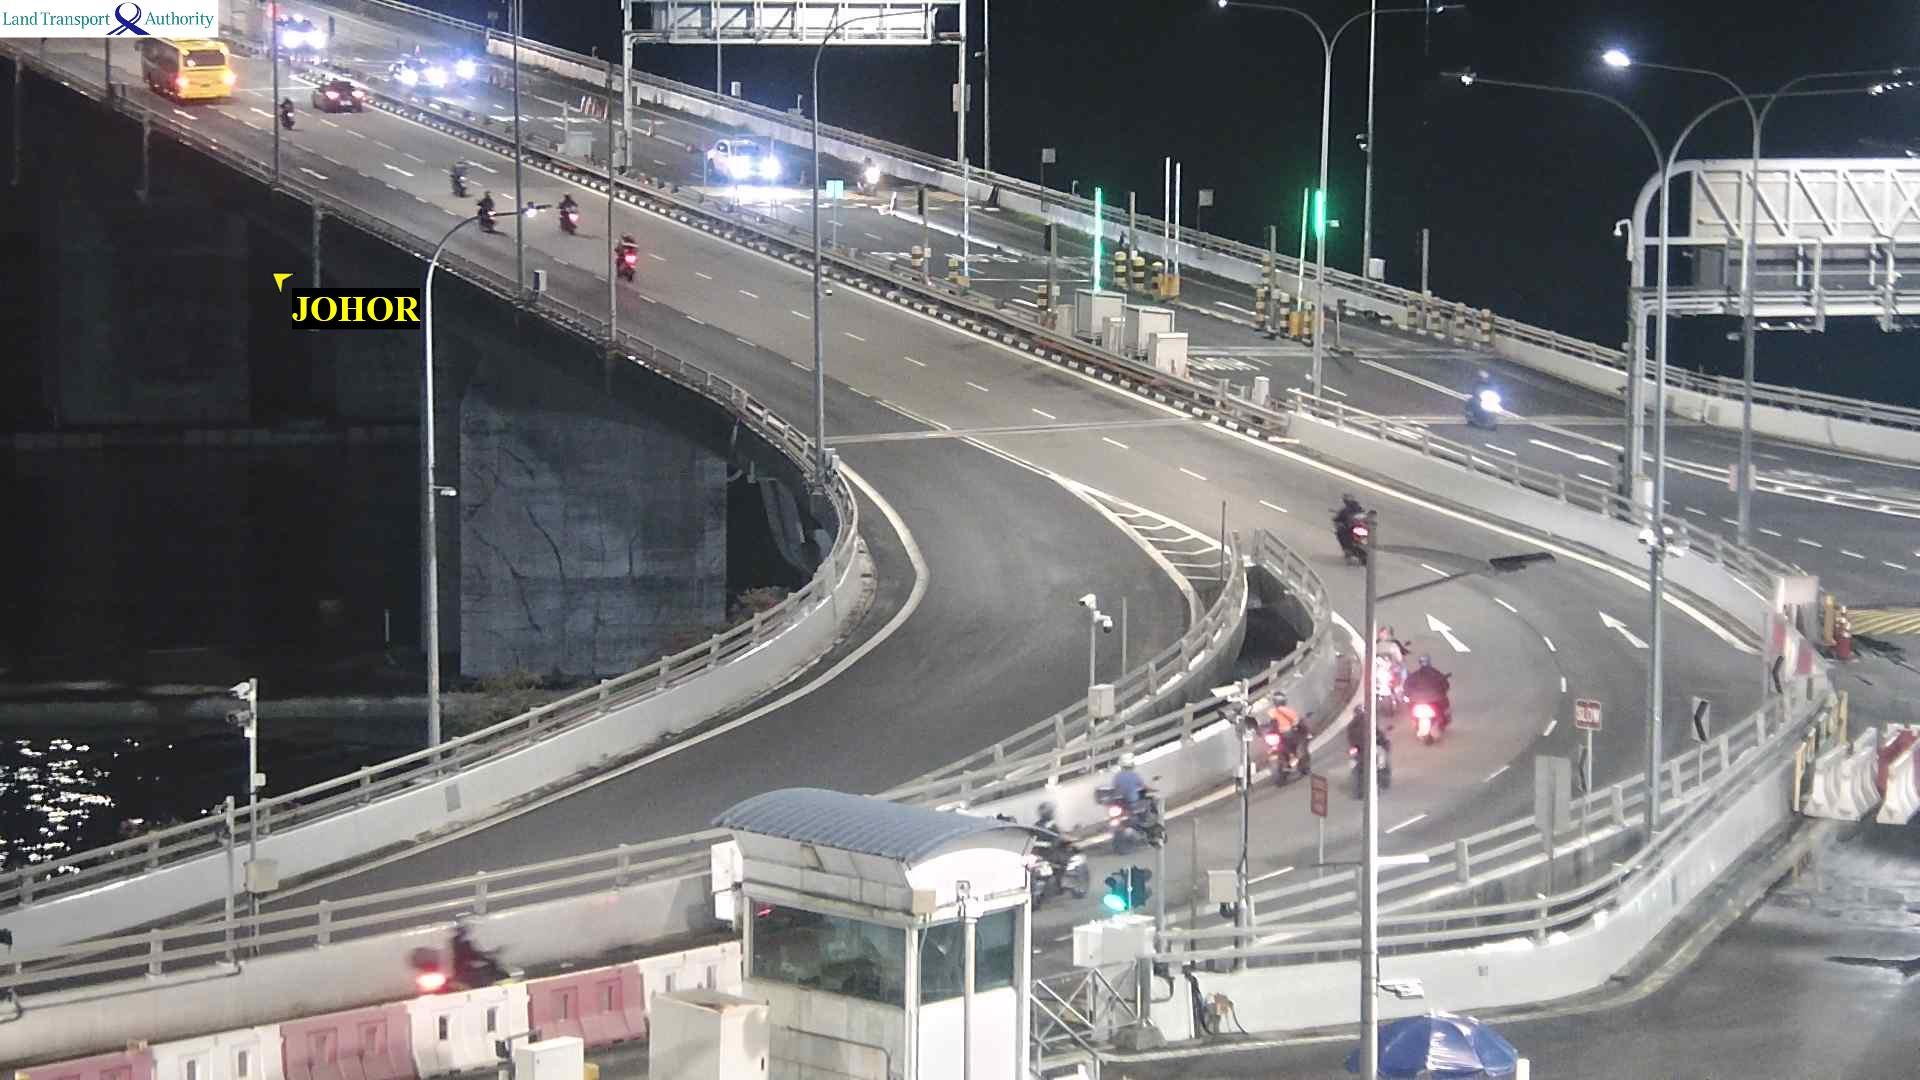vehicle-secondlink-johor: (410, 923, 513, 996), (1015, 807, 1091, 898), (150, 36, 244, 102), (1097, 761, 1166, 844), (1262, 711, 1313, 779), (1333, 495, 1381, 563), (1350, 733, 1395, 798), (1414, 655, 1447, 740), (1377, 625, 1404, 702), (313, 76, 363, 109), (617, 232, 640, 276), (450, 158, 465, 189), (562, 194, 575, 225), (480, 190, 492, 224), (281, 96, 293, 124)
vehicle-secondlink-singapore: (692, 136, 781, 187), (394, 45, 480, 88), (1460, 364, 1510, 430)
